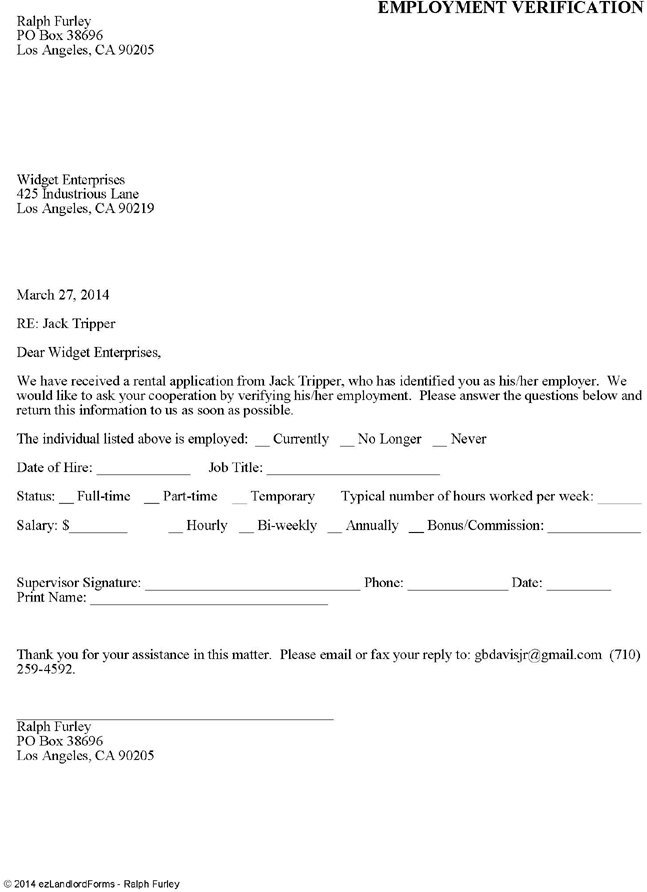textline: (88, 590, 331, 613), (142, 573, 361, 595), (262, 458, 443, 482), (546, 518, 646, 539), (407, 575, 510, 595), (93, 460, 192, 477), (545, 575, 612, 596), (71, 519, 136, 536), (598, 486, 643, 510), (334, 432, 360, 450), (323, 521, 346, 539), (426, 432, 450, 449), (163, 520, 184, 539), (235, 519, 257, 537), (404, 519, 425, 537), (139, 492, 160, 507), (231, 491, 248, 508), (253, 433, 269, 450), (60, 489, 73, 508)
